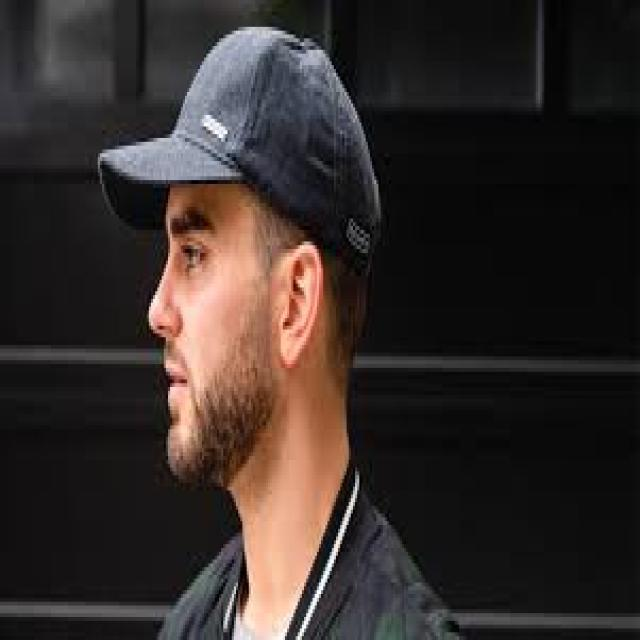cap: (86, 10, 388, 322)
